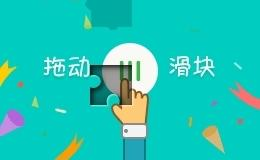target: (68, 43, 110, 85)
